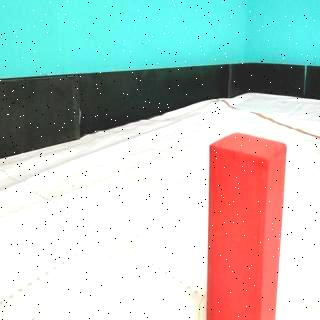redbox: (207, 131, 286, 320)
